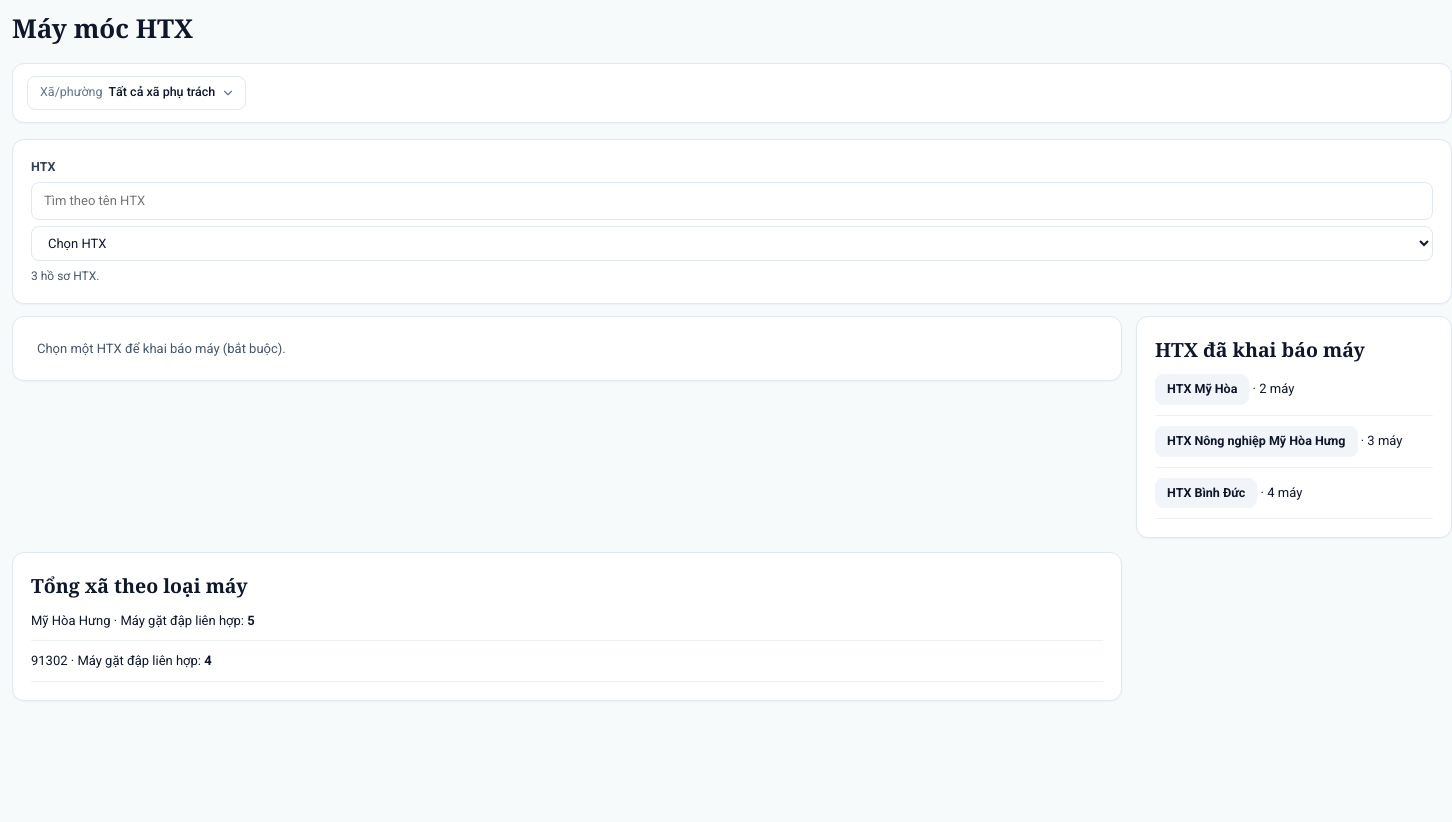
Máy móc HTX — bấm Lưu lại sau mất phản hồi giữ khóa của cả hai bước › bước năm đã ghi nhưng mất phản hồi → không báo thành công; Lưu lại dùng lại khóa cũ cho số lượng và năm
The image size is (1452, 822).
Select "HTX Mỹ Hòa" in the dropdown labelled "HTX" at {"x": 732, "y": 243}, box [31,226,1433,261]
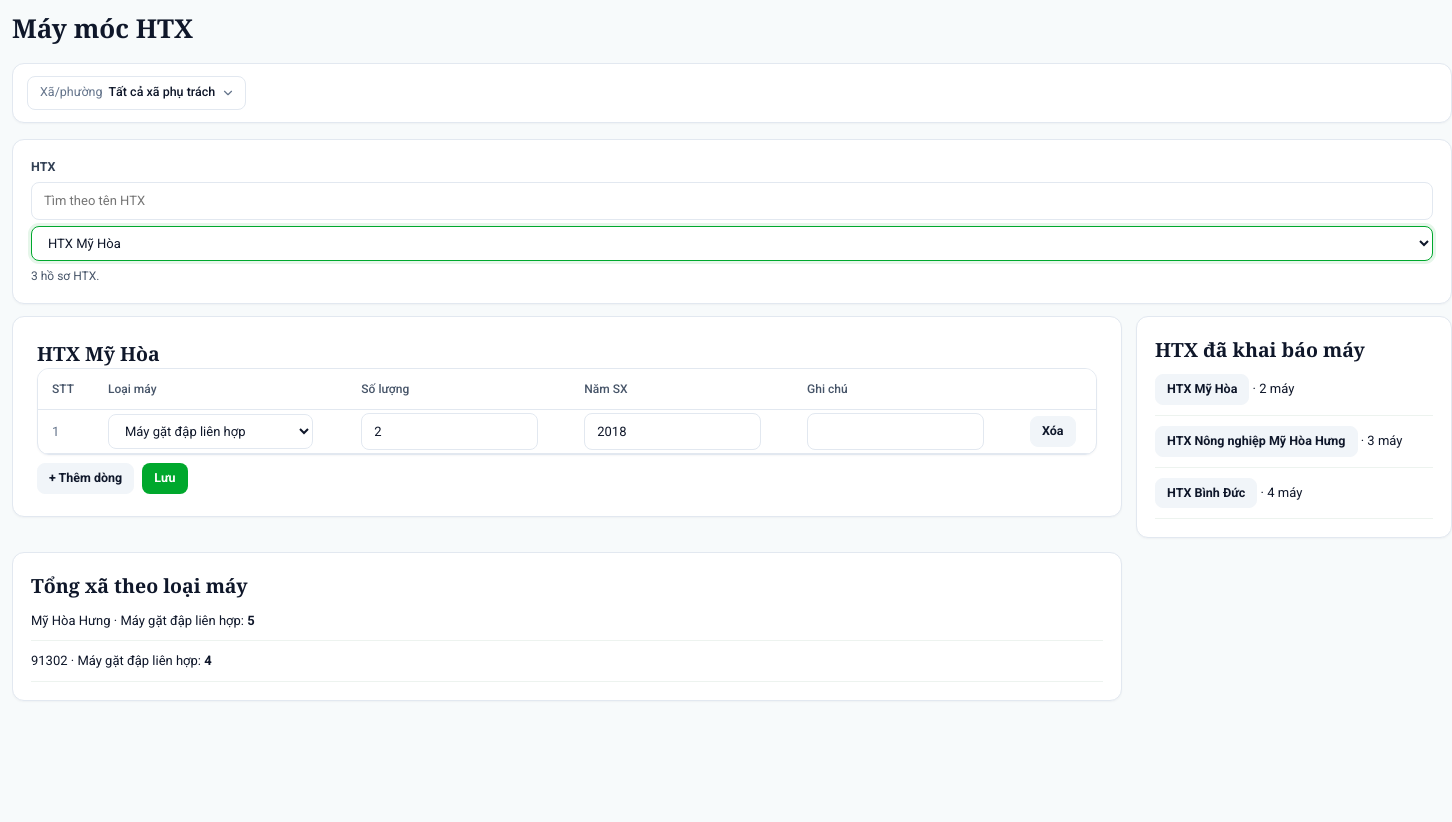
Check: the table named "Khai báo máy" is shown, box [38,369,1096,454]
Click the button "+ Thêm dòng" at {"x": 86, "y": 478}, box [37,463,134,494]
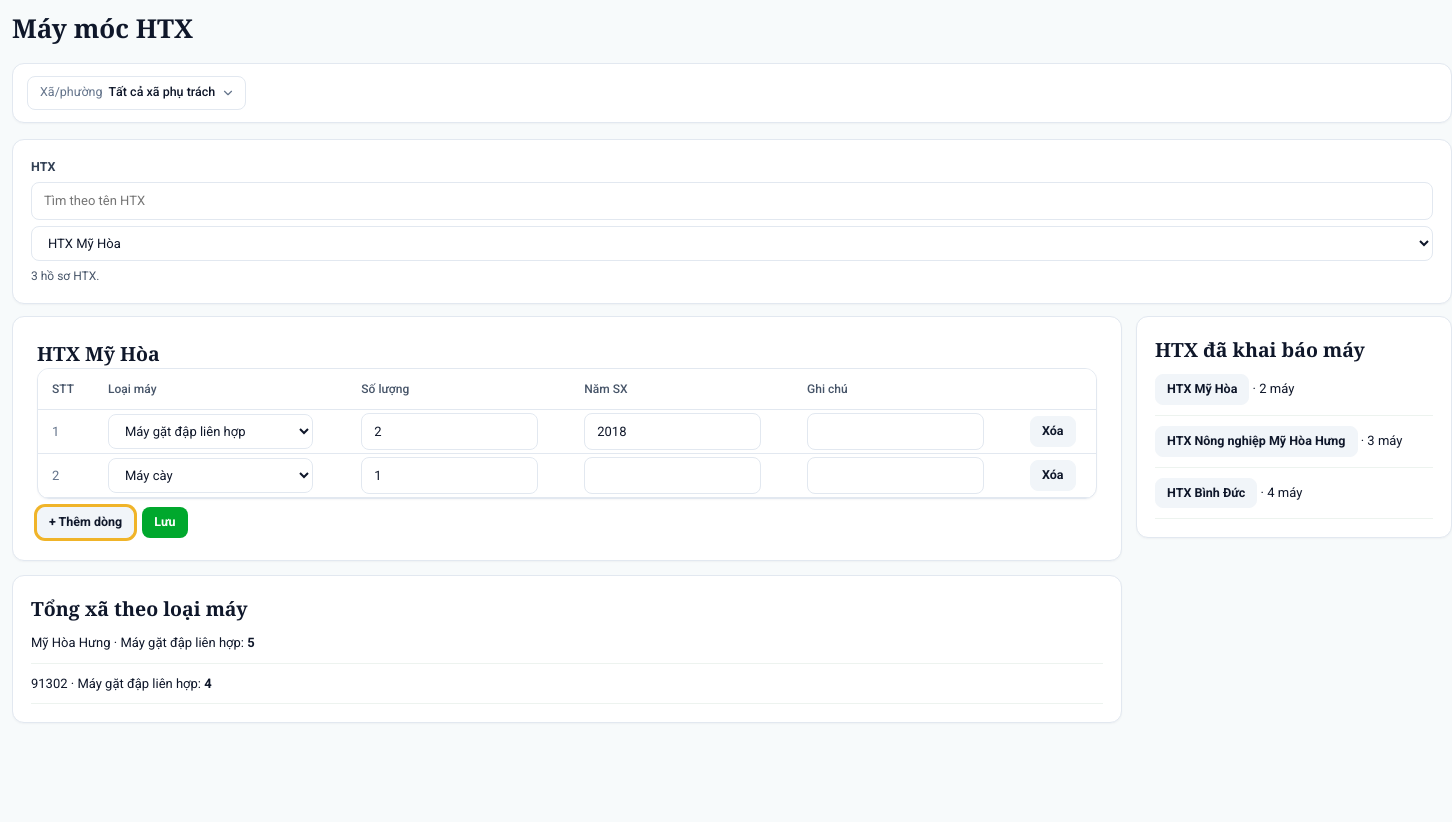
Type "2020" into the field named "Năm sản xuất dòng" at {"x": 673, "y": 476}, box [584,457,761,494]
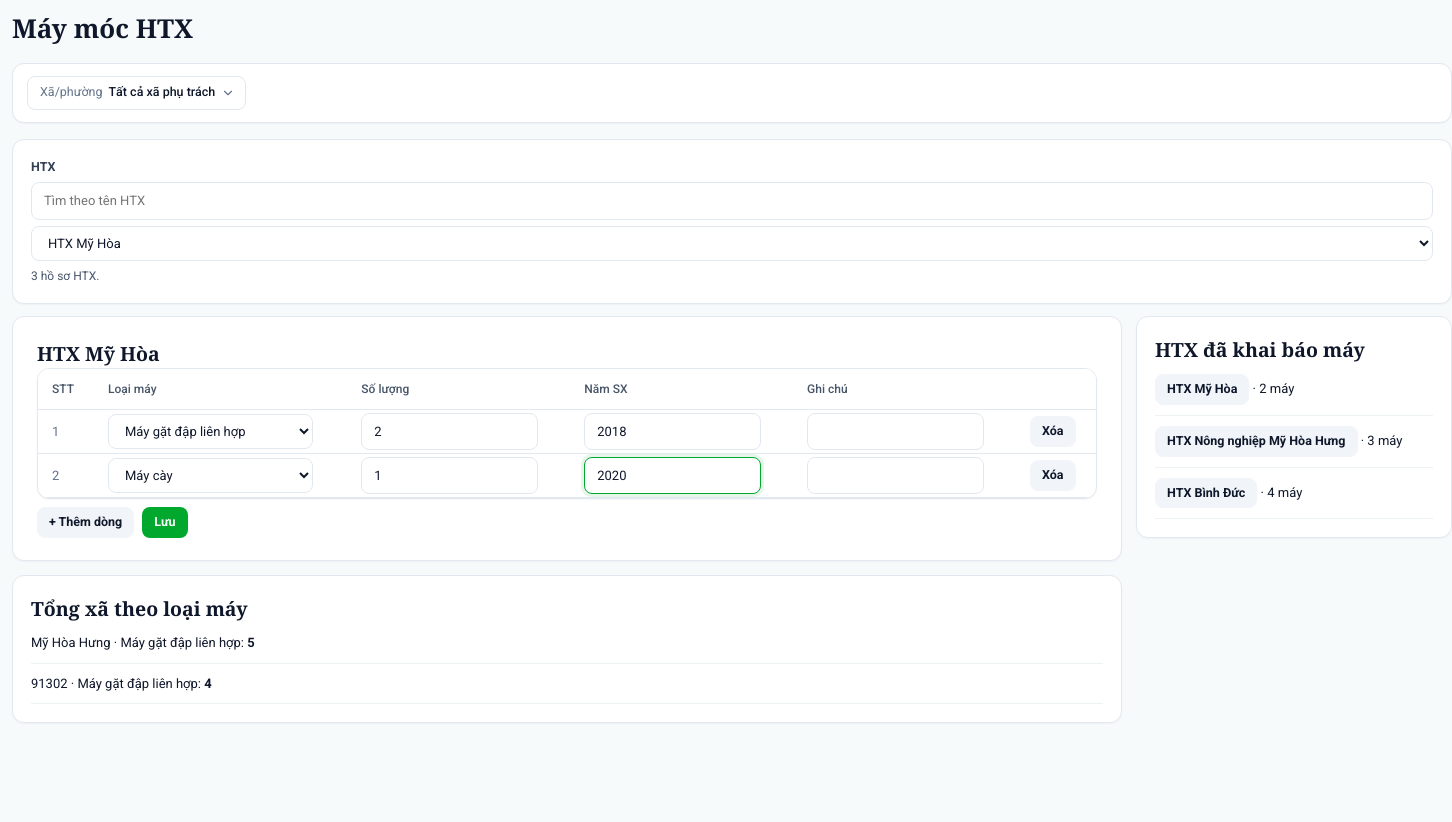
Click the button "Lưu" at {"x": 165, "y": 522}, box [142,507,188,538]
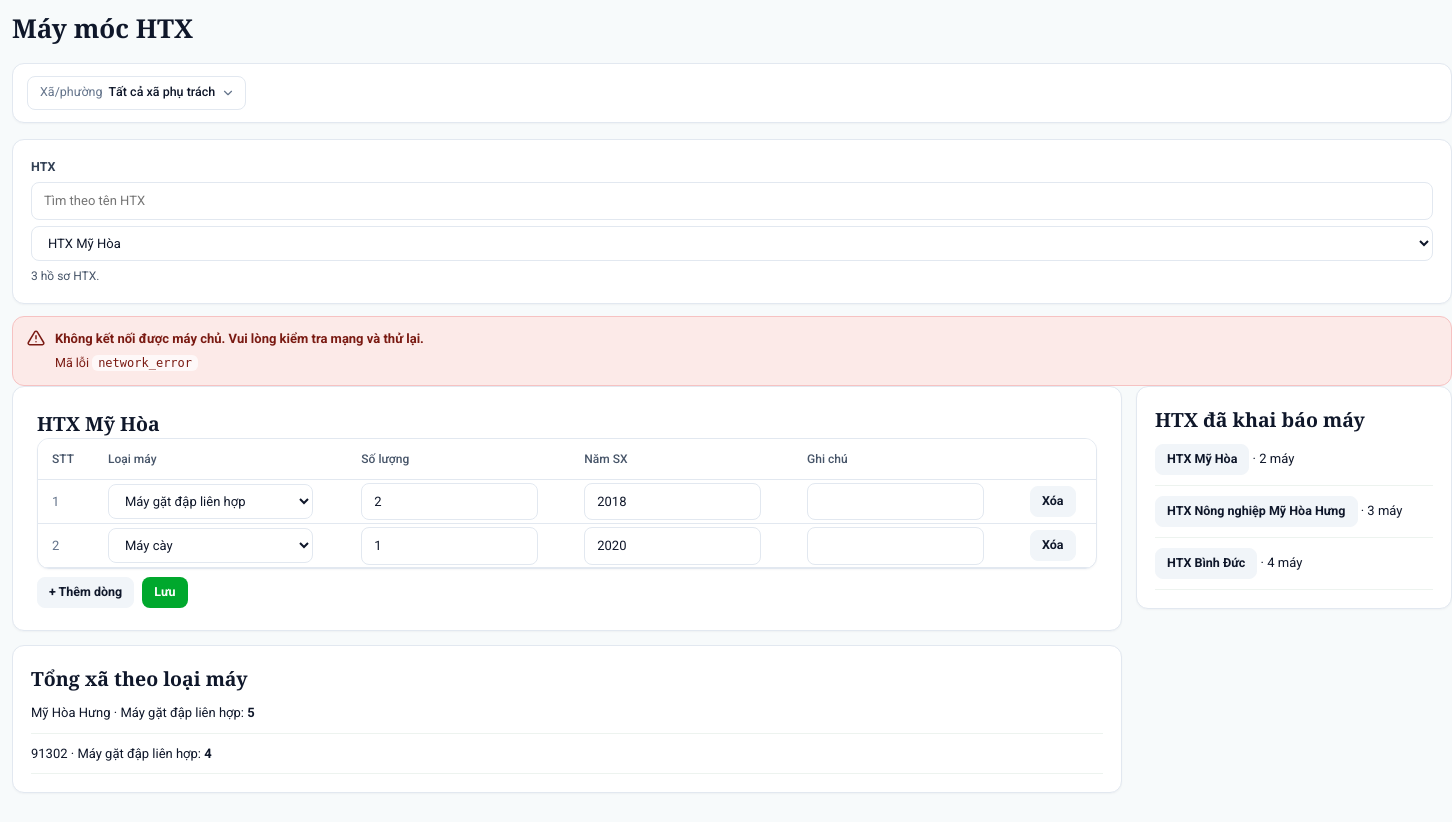
Check: the text "Đã lưu khai báo máy" is not shown
Check: the button "Lưu" is enabled
Click the button "Lưu" at {"x": 165, "y": 593}, box [142,577,188,608]
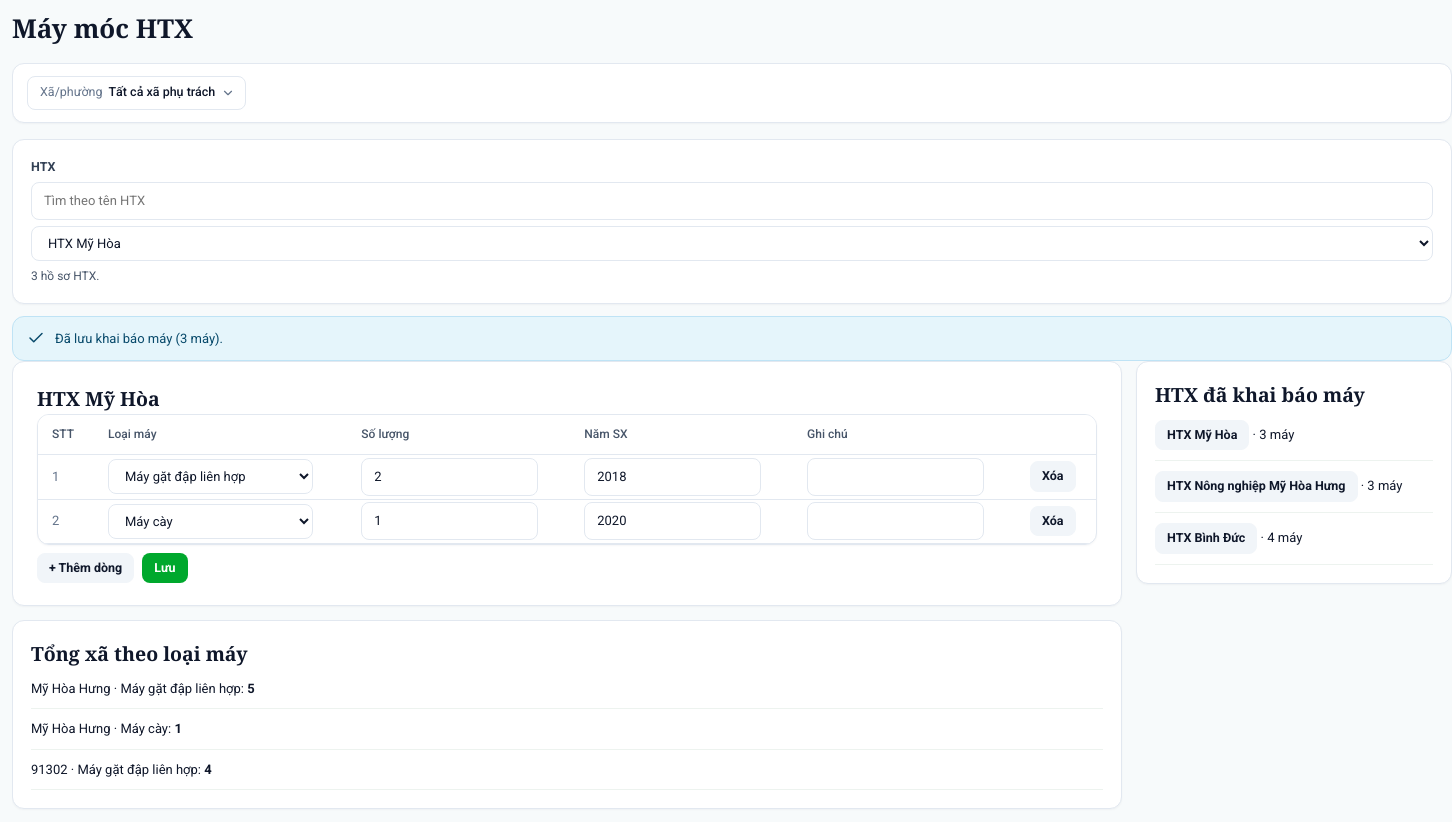
Check: the text "Đã lưu khai báo máy (3 máy)." is shown, box [55,329,223,348]
